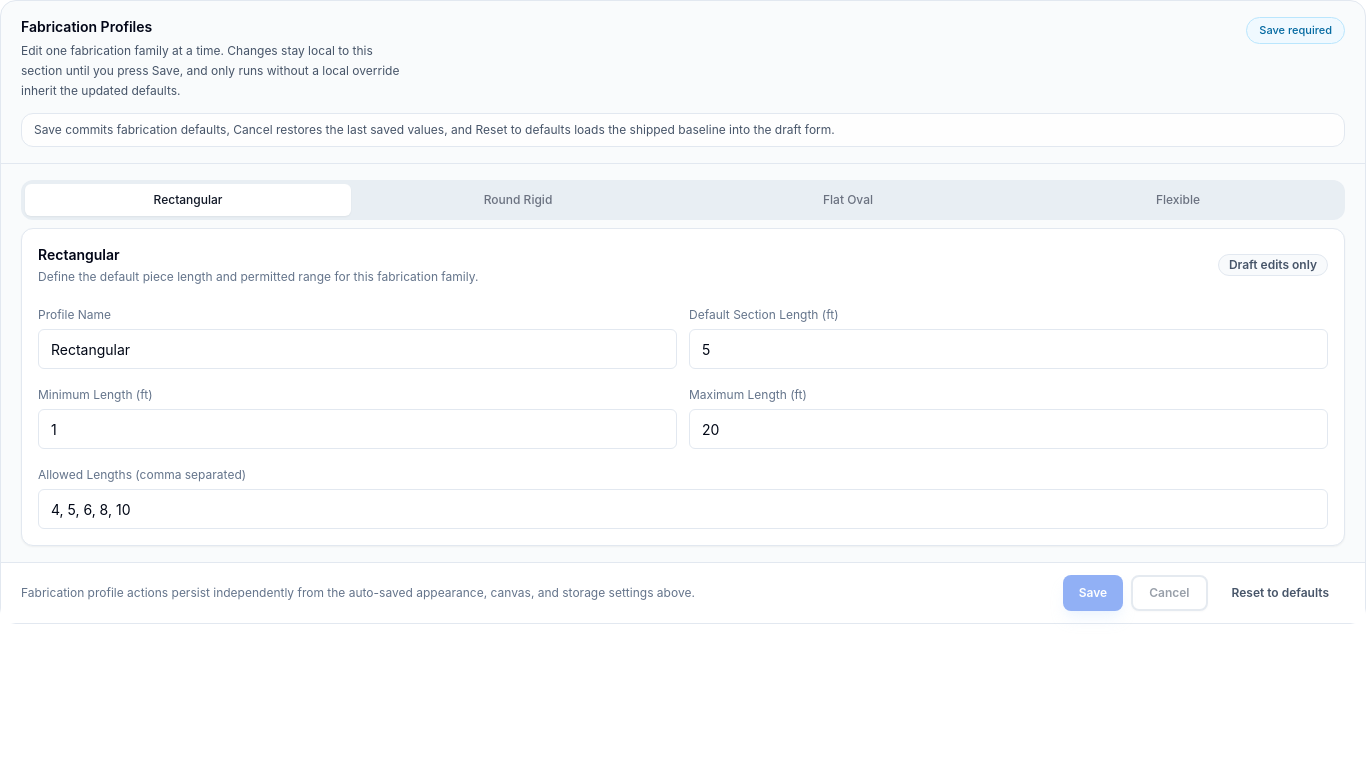
FabricationProfileSettingsPanel › cancels local edits back to committed settings
Replace the text in the number field with id "rectangular_rigid-default" with "6" at x=1008, y=349, box [689,329,1328,369]
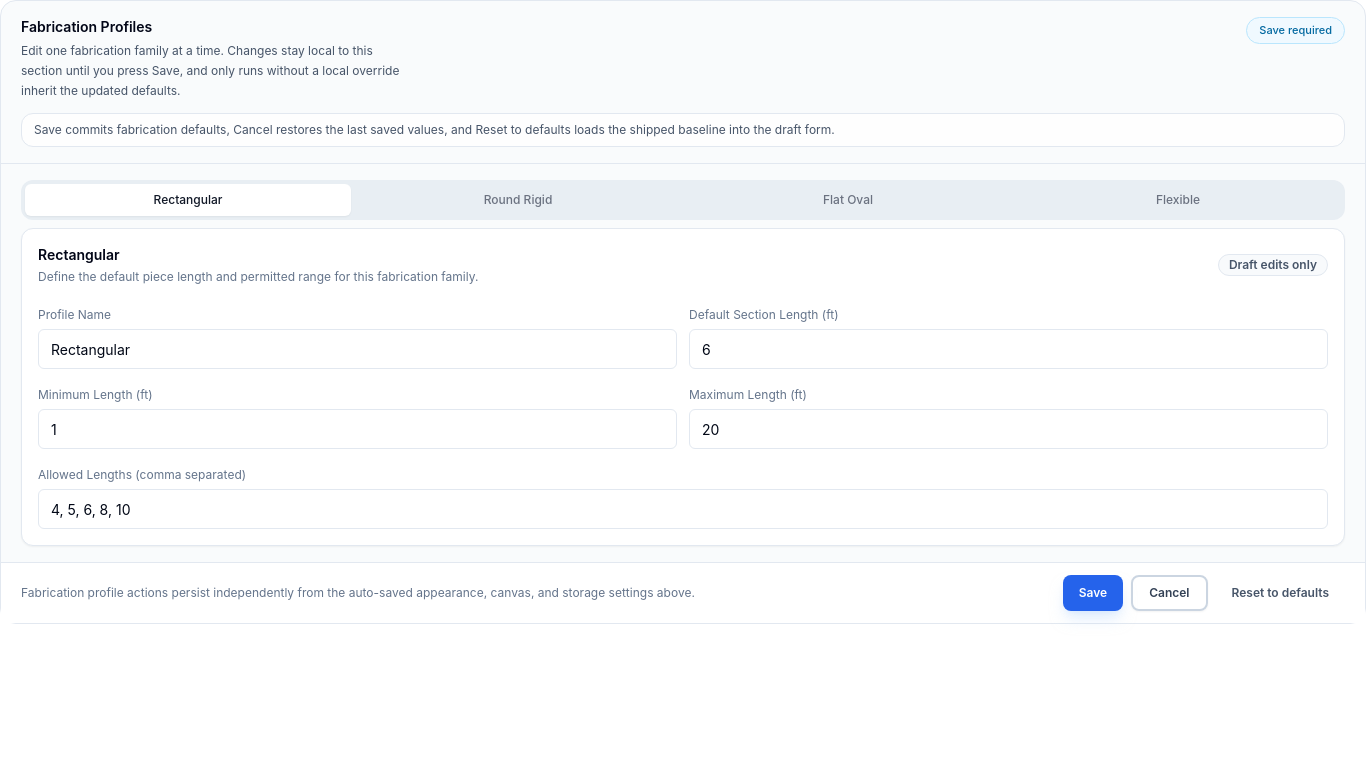
Click the button "Cancel" at x=1169, y=593, box [1131,575,1208,611]
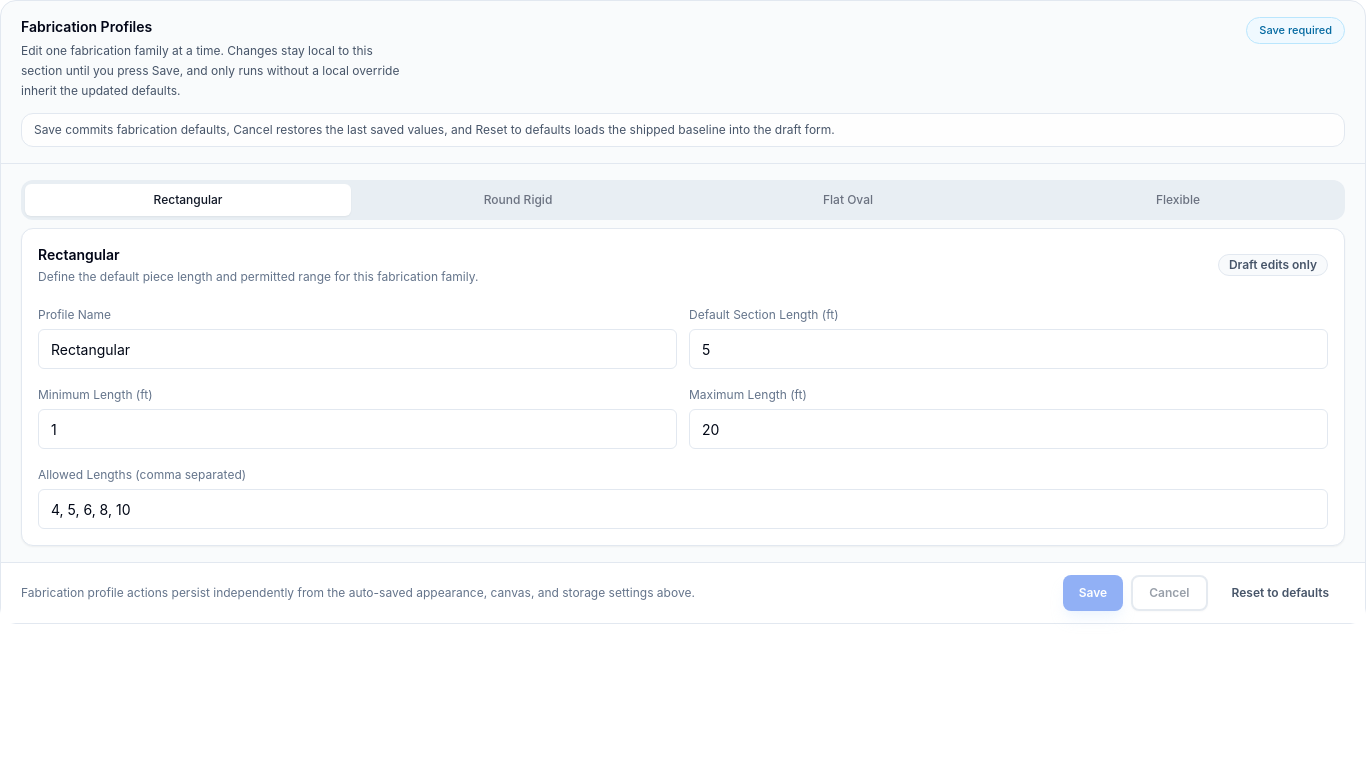
Now the number field with id "rectangular_rigid-default" holds "5", box [689,329,1328,369]
